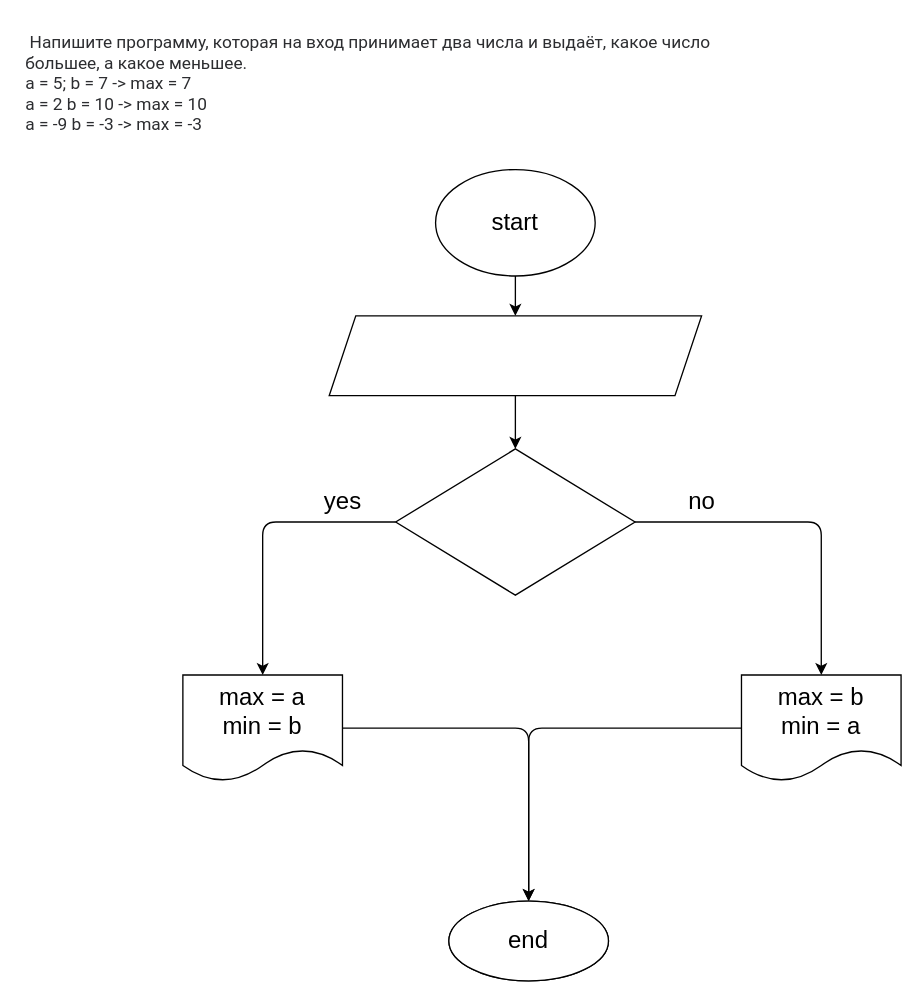
Image size: 924x1004. Some labels were removed from this diagram. Here are the shapes that lost their labels. From the top down, the centre of each, then its label:
At (x=515, y=355): "Введите число (a) и (b)".
At (x=514, y=521): "a > b".
